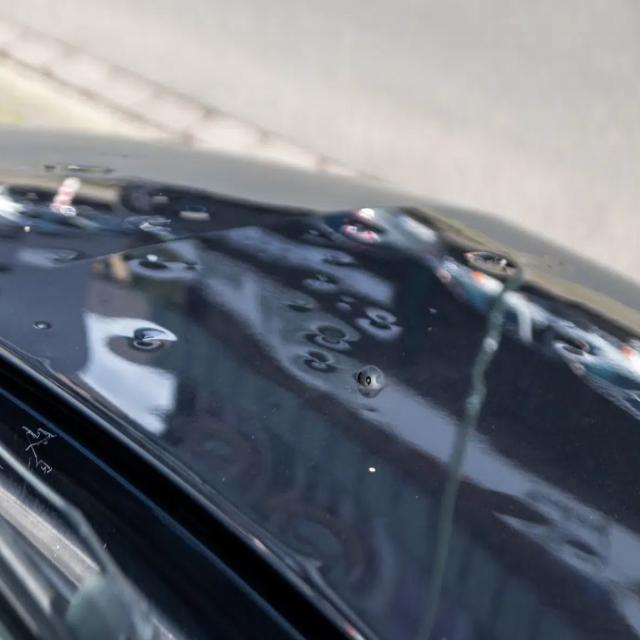dents: (551, 315, 607, 397), (387, 199, 441, 264), (348, 356, 402, 416), (132, 301, 172, 376), (479, 241, 520, 304), (291, 334, 330, 396), (363, 287, 398, 351), (316, 312, 355, 359), (316, 234, 351, 279), (35, 306, 62, 354), (62, 232, 82, 279)
